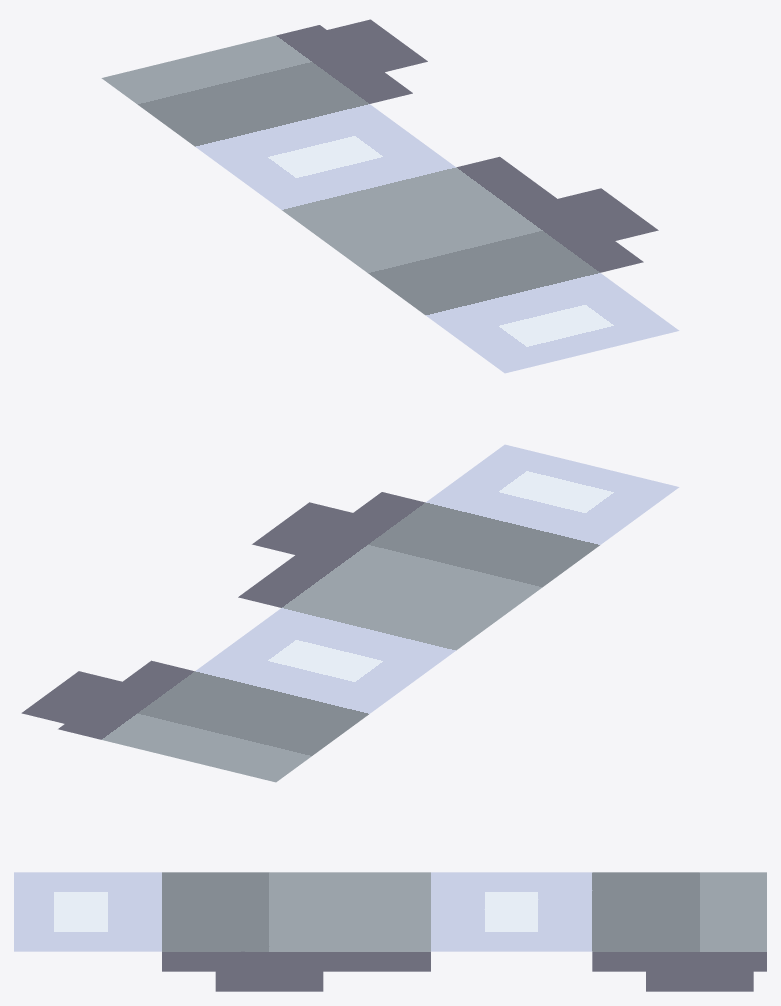
3 views of the same model, one above another, from view 1: azimuth 30°, elevation 25°; view 2: azimuth 150°, elevation 25°; view 3: azimuth 270°, elevation 25° (orthographic). The views are drawn at different scales.
Size of the model in its own units: 0.5 by 0 by 1.
1 material, 1 textured.
